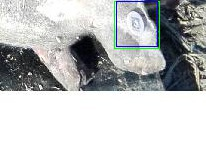text: (114, 1, 159, 48)
